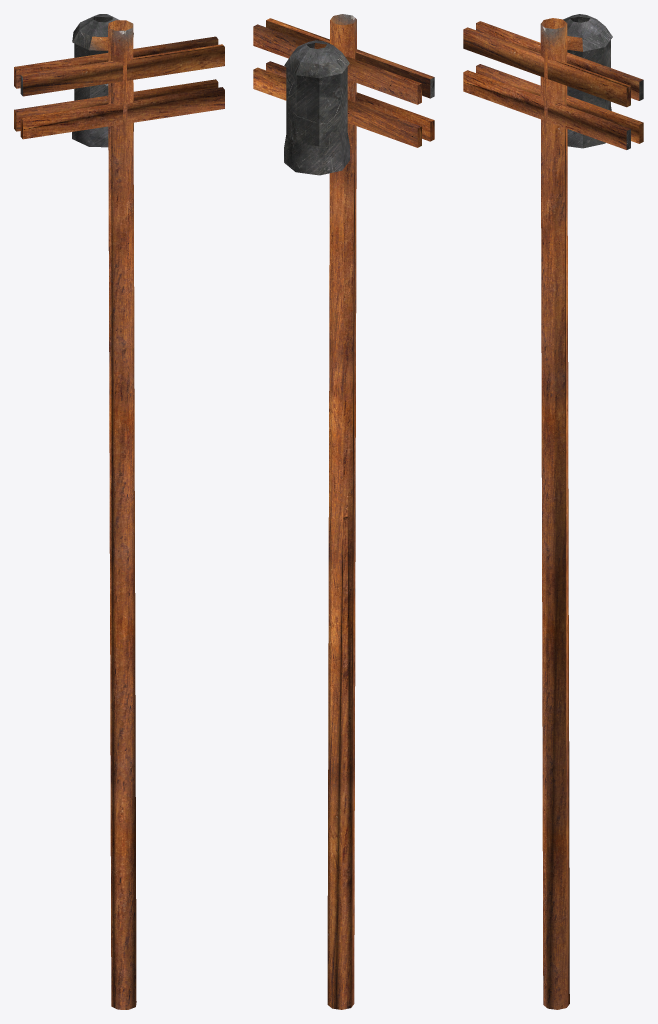
Rendered from Pylon.FBX.
The picture shows the model from 3 angles, left to right: view 1: azimuth 30°, elevation 25°; view 2: azimuth 150°, elevation 25°; view 3: azimuth 330°, elevation 25°; orthographic projection.
Parts seen in each view (by area): view 1: old town block; view 2: old town block; view 3: old town block.
Boxes of the visible parts, left/top/right/bottom form: old town block: left=14, top=14, right=224, bottom=1009; old town block: left=253, top=14, right=434, bottom=1009; old town block: left=463, top=14, right=643, bottom=1009.
Size of the model in its own units: 4.48 by 22.47 by 2.24.
Materials: 1 (1 with a texture image).
